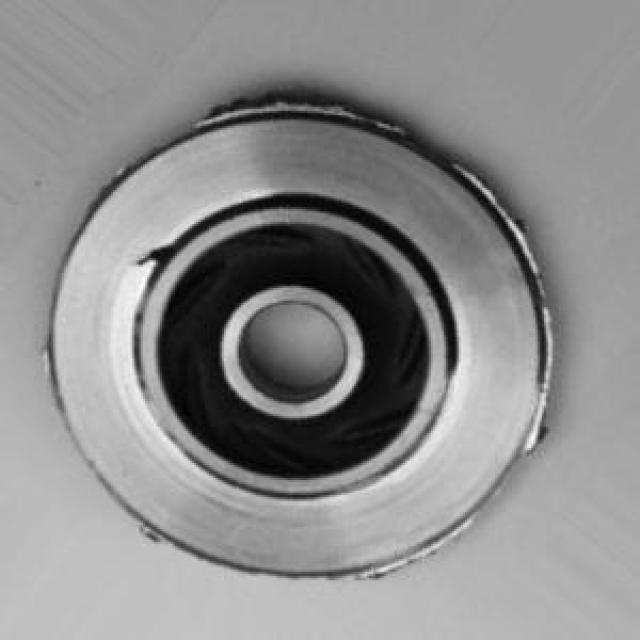Defect: (130, 239, 179, 270)
